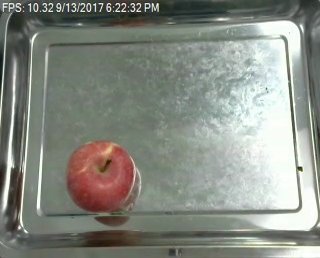Apple: (63, 138, 139, 213)
